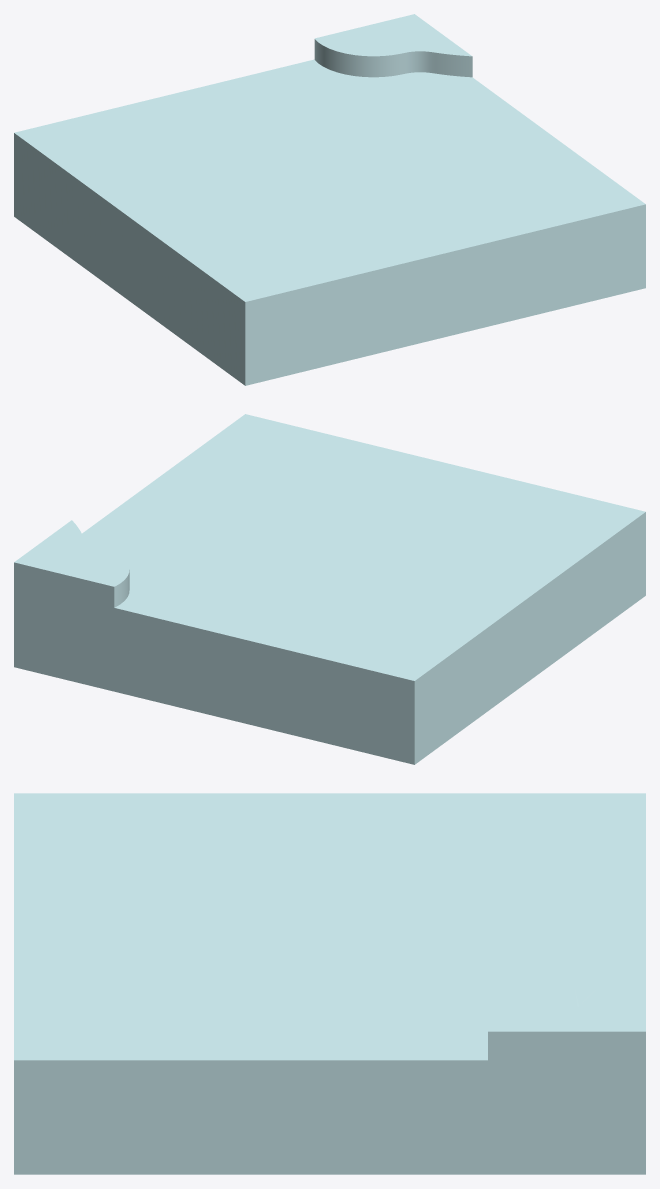
Rendered from ground_dirtRiverCornerInner.fbx.
3 views of the same model, one above another, from view 1: azimuth 30°, elevation 25°; view 2: azimuth 150°, elevation 25°; view 3: azimuth 270°, elevation 25° (orthographic). The views are drawn at different scales.
Visible parts, largest first — view 1: ground_dirtRiverCornerInner; view 2: ground_dirtRiverCornerInner; view 3: ground_dirtRiverCornerInner.
Part boxes in pixels (x1,y1,x2,y2): ground_dirtRiverCornerInner: [14, 14, 645, 385]; ground_dirtRiverCornerInner: [14, 414, 645, 764]; ground_dirtRiverCornerInner: [14, 793, 645, 1174].
Size of the model in its own units: 300 by 75 by 300.
